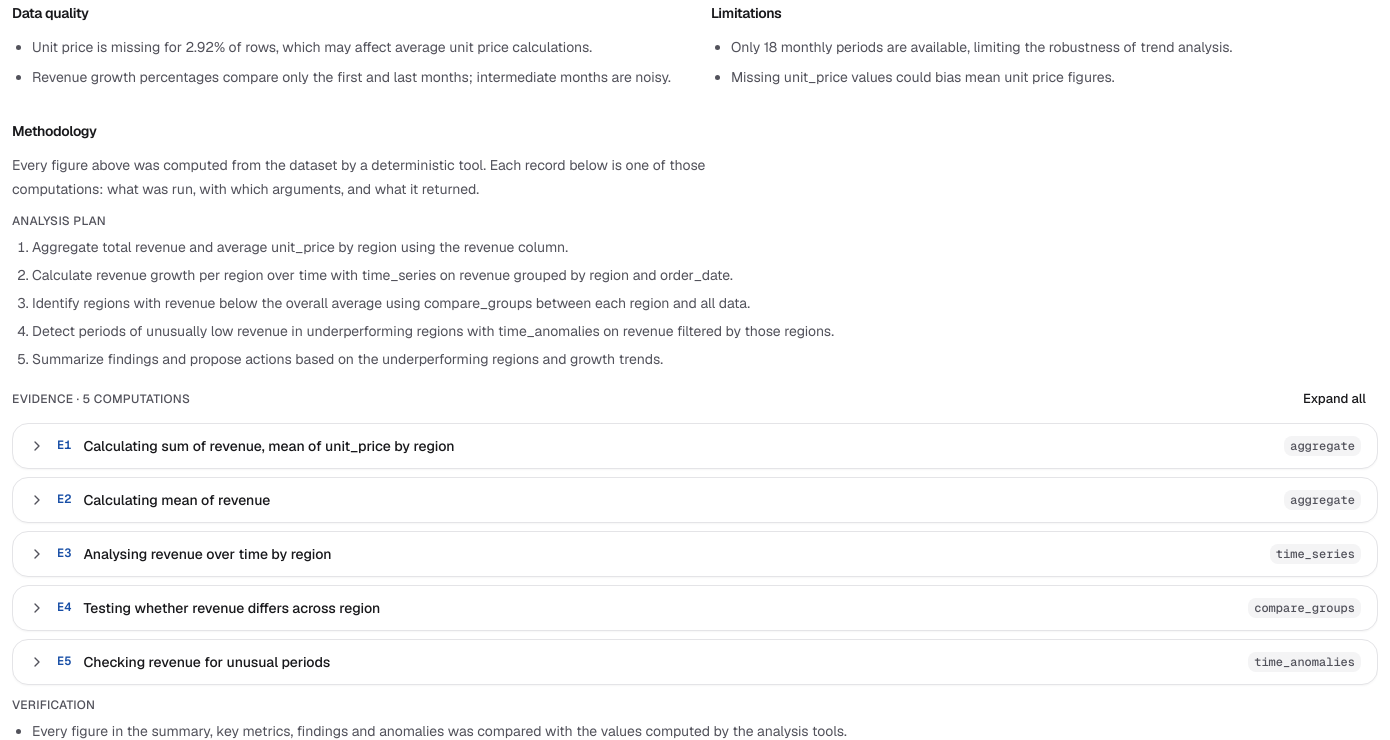
Scenario: ReportView with the real sample report › shows the tool, its arguments and notes inside an evidence record
The width and height of the screenshot is (1390, 740).
(page scrolled)
Step 1. Click the button "E3 Analysing revenue over time by region time_series" → (208, 554), box [13,532,1377,576]
(page scrolled)
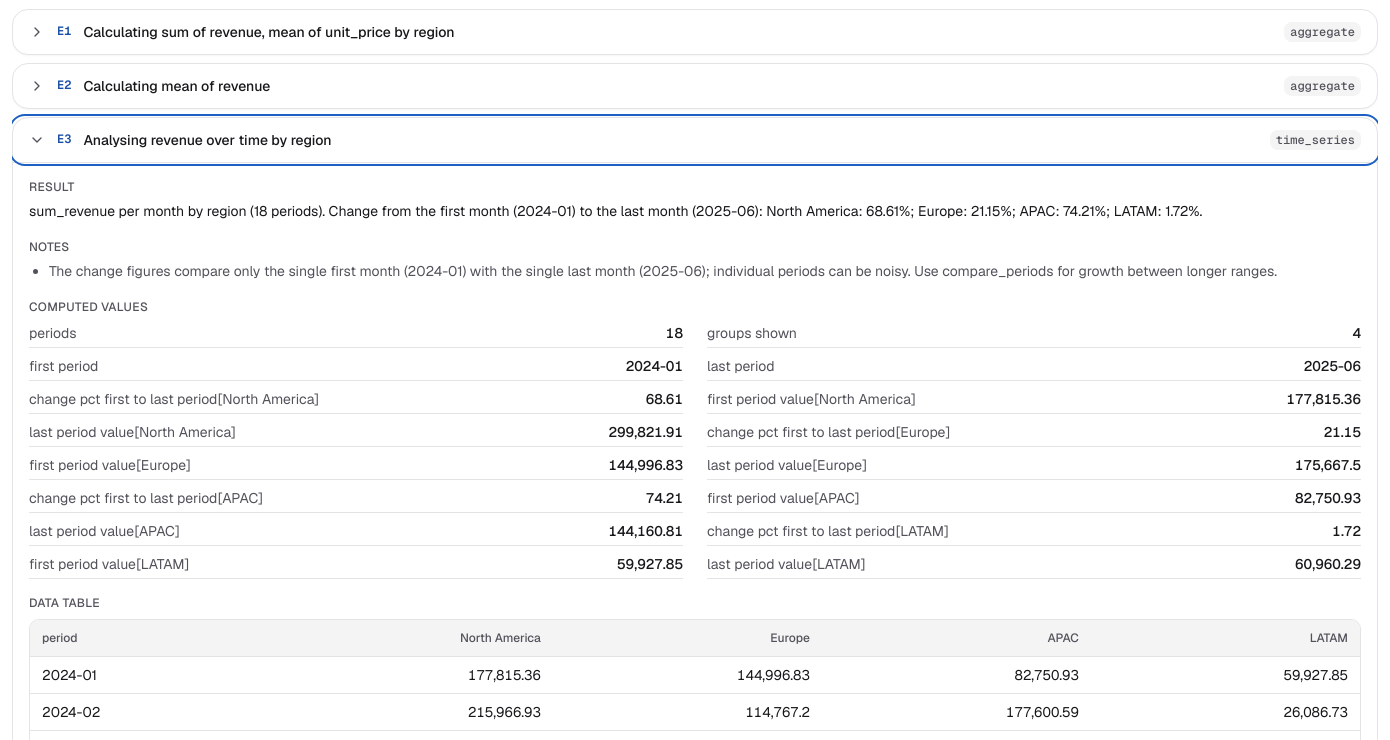
Expected: the list item "The change figures compare only the single first month (2024-01) with the single last month (2025-06); individual period" is shown, [49,262,1277,280]
Expected: the text "68.61" is shown, [646,389,683,409]
